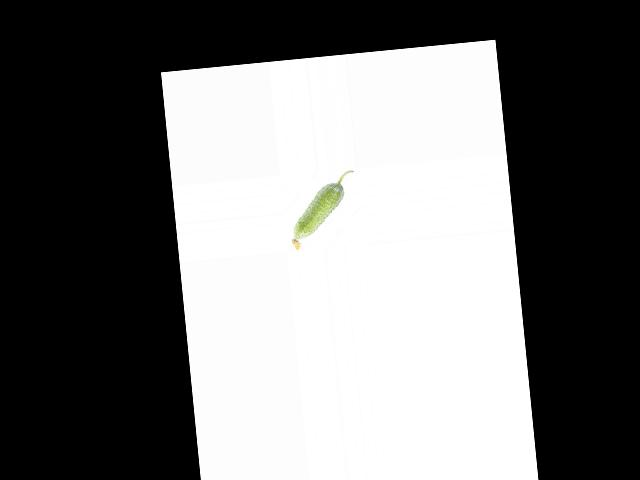cucumber: (285, 170, 361, 251)
